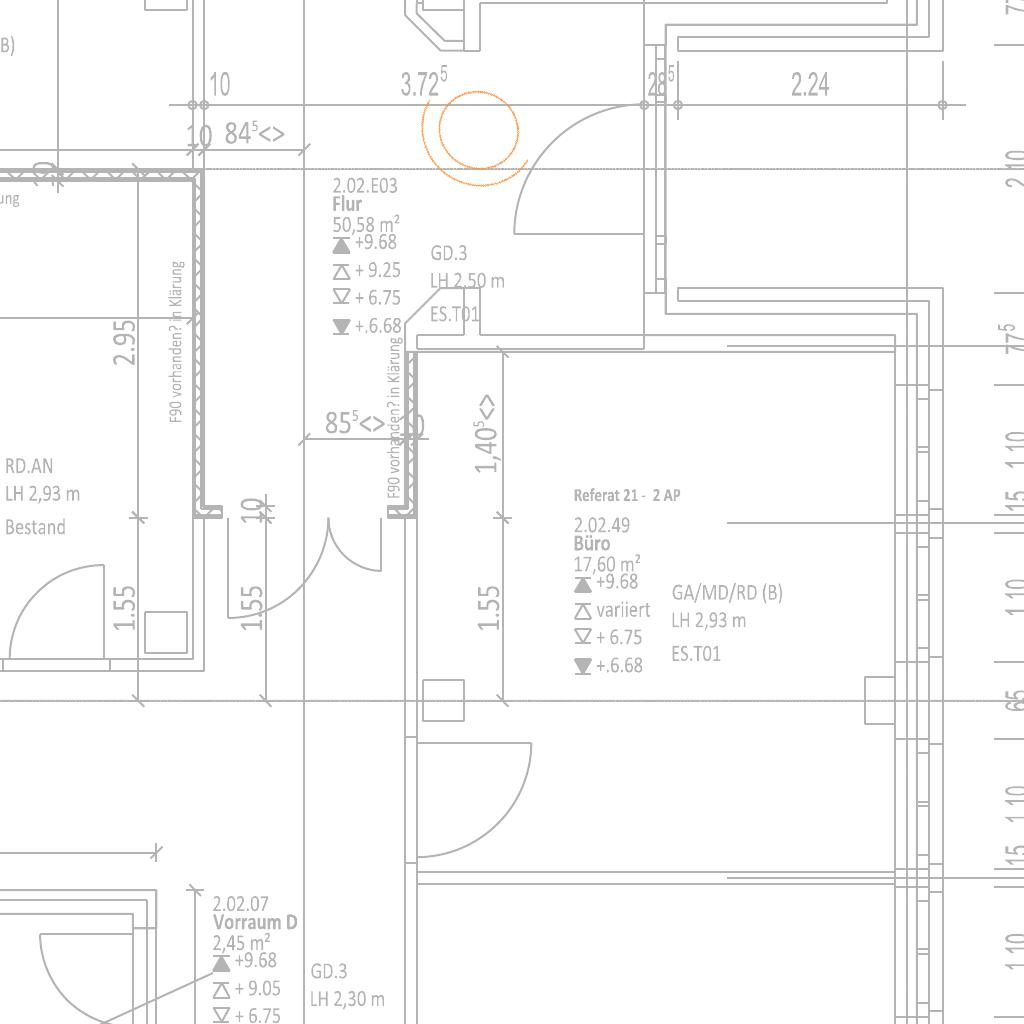Scheinwerfer_fuer_Alarmbeleuchtung: (393, 54, 565, 218)
